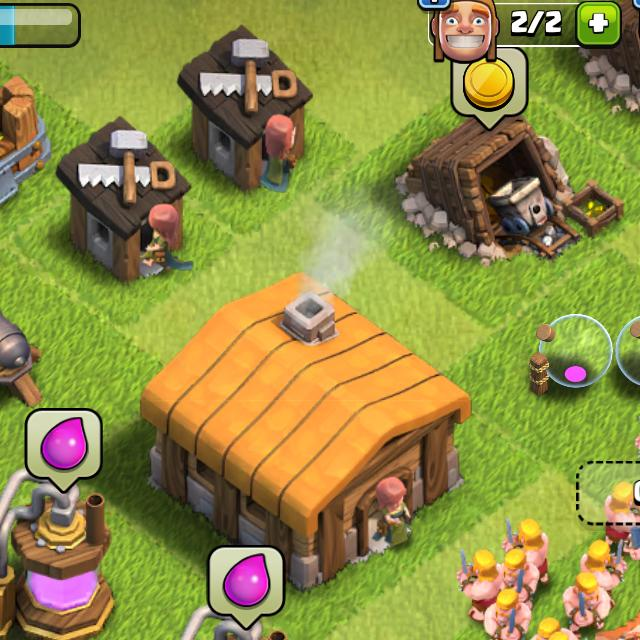Elixir: (207, 546, 286, 634), (25, 408, 102, 492)
coin: (452, 51, 530, 118)
